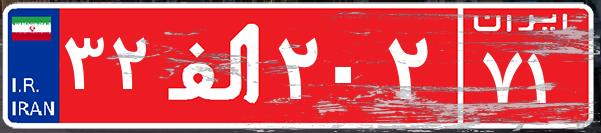0: (330, 28, 385, 110)
1: (525, 38, 570, 115)
2: (385, 28, 445, 110), (273, 28, 330, 110), (110, 28, 158, 105)
3: (57, 26, 110, 107)
7: (475, 38, 525, 113)
الف: (158, 15, 273, 115)
